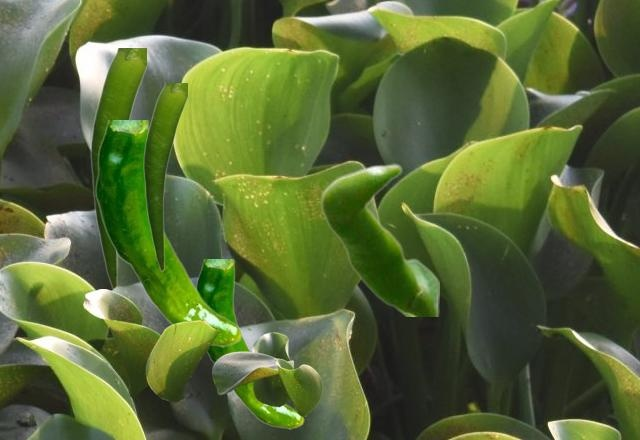green_chili: (95, 120, 241, 346), (196, 259, 303, 428), (320, 163, 438, 315), (90, 48, 145, 288), (143, 83, 186, 270)
